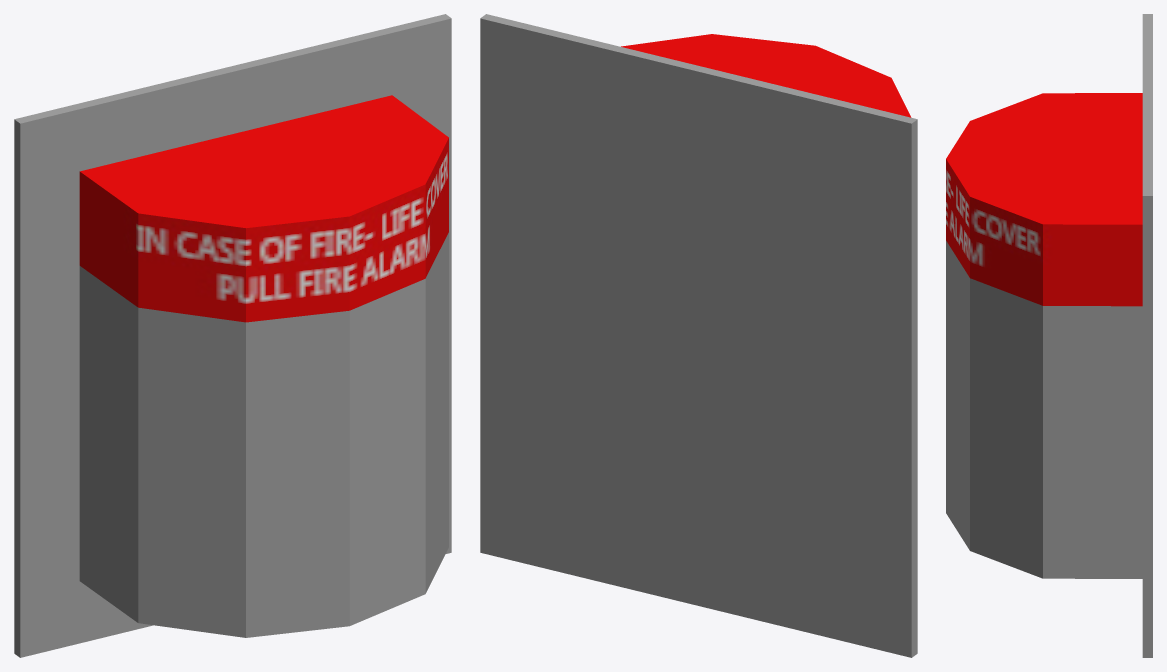
Rendered from Fire_alarm_FBX.fbx.
3 renders of one model, left to right at view 1: azimuth 30°, elevation 25°; view 2: azimuth 150°, elevation 25°; view 3: azimuth 270°, elevation 25°, orthographic. The views are drawn at different scales.
Parts seen in each view (by area): view 1: pCylinder1; view 2: pCylinder1; view 3: pCylinder1.
Boxes of the visible parts, box(x1,y1,x2,y2) form: pCylinder1: box(14, 14, 451, 657); pCylinder1: box(480, 14, 917, 657); pCylinder1: box(946, 14, 1152, 657).
Bounding box in the file's own units: 9.43 × 11.16 × 4.53.
2 materials, 1 textured.
